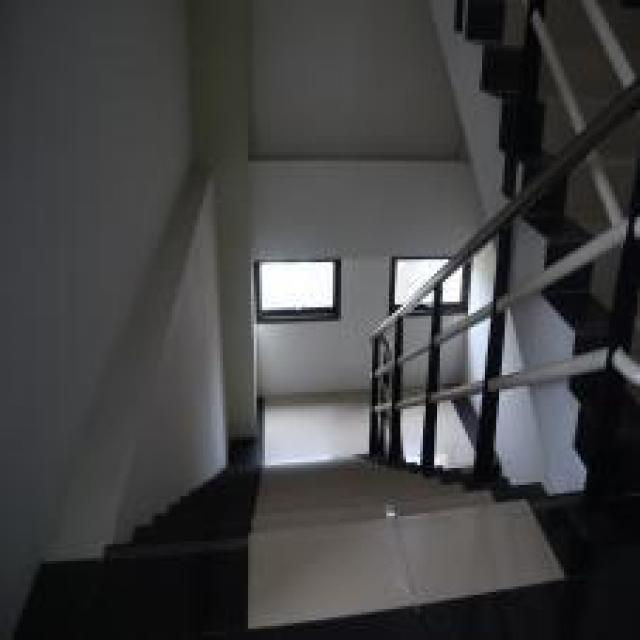downstair: (165, 458, 492, 638)
